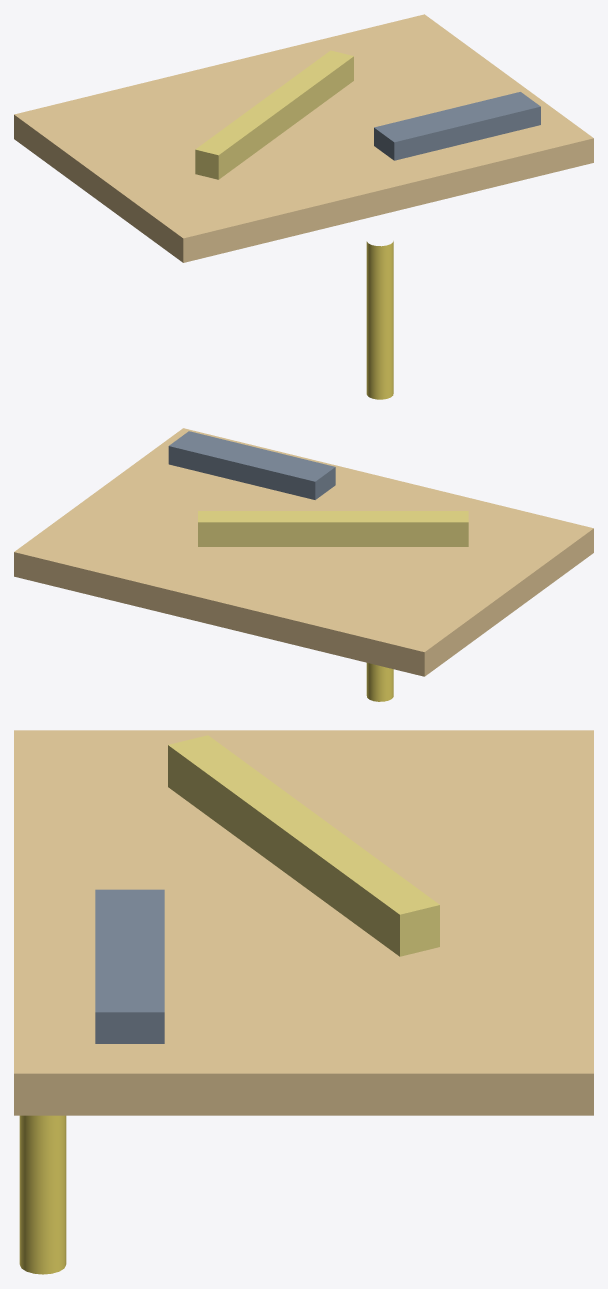
Rendered from plane_table_radiation_intersection.glb.
3 renders of one model, top to bottom at view 1: azimuth 30°, elevation 25°; view 2: azimuth 150°, elevation 25°; view 3: azimuth 270°, elevation 25°, orthographic. The views are drawn at different scales.
Visible parts, largest first — view 1: WoodenPlaneTableBoard, TelescopicSightAlidadeBlade, TroughCompassNeedleHousing, PlumbingForkWithPlumbBob; view 2: WoodenPlaneTableBoard, TelescopicSightAlidadeBlade, TroughCompassNeedleHousing, PlumbingForkWithPlumbBob; view 3: WoodenPlaneTableBoard, TelescopicSightAlidadeBlade, TroughCompassNeedleHousing, PlumbingForkWithPlumbBob.
Part boxes in pixels (x1,y1,x2,y2): WoodenPlaneTableBoard: (14,14,593,262); TelescopicSightAlidadeBlade: (195,50,353,179); TroughCompassNeedleHousing: (374,92,540,160); PlumbingForkWithPlumbBob: (366,241,393,399); WoodenPlaneTableBoard: (14,428,593,676); TelescopicSightAlidadeBlade: (198,511,468,546); TroughCompassNeedleHousing: (168,431,335,499); PlumbingForkWithPlumbBob: (366,663,393,701); WoodenPlaneTableBoard: (14,730,593,1115); TelescopicSightAlidadeBlade: (168,735,439,956); TroughCompassNeedleHousing: (95,889,164,1043); PlumbingForkWithPlumbBob: (19,1115,66,1274).
Bounding box in the file's own units: 1.4 × 0.79 × 1.
